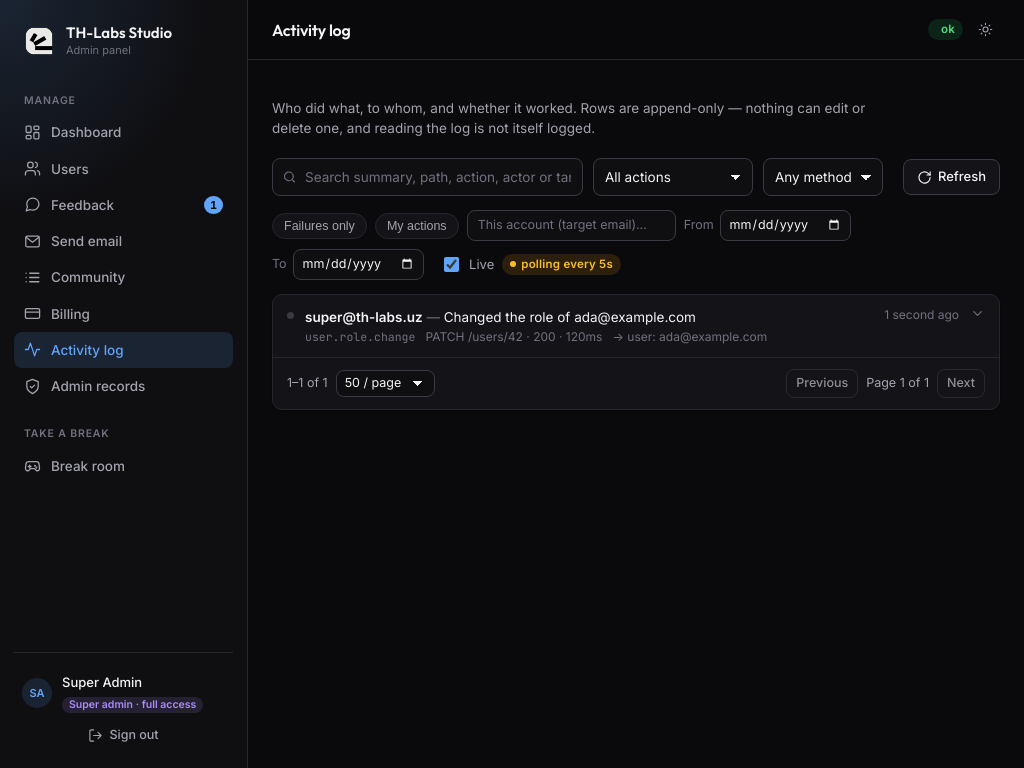
Test: activity log › renders rows as "who did what" and expands to the redacted meta
Expected: the text "super@th-labs.uz" is shown, [305,309,423,325]
Click the text "super@th-labs.uz — Changed the role of ada@example.com" at coordinates (364, 317), box [305,309,696,325]
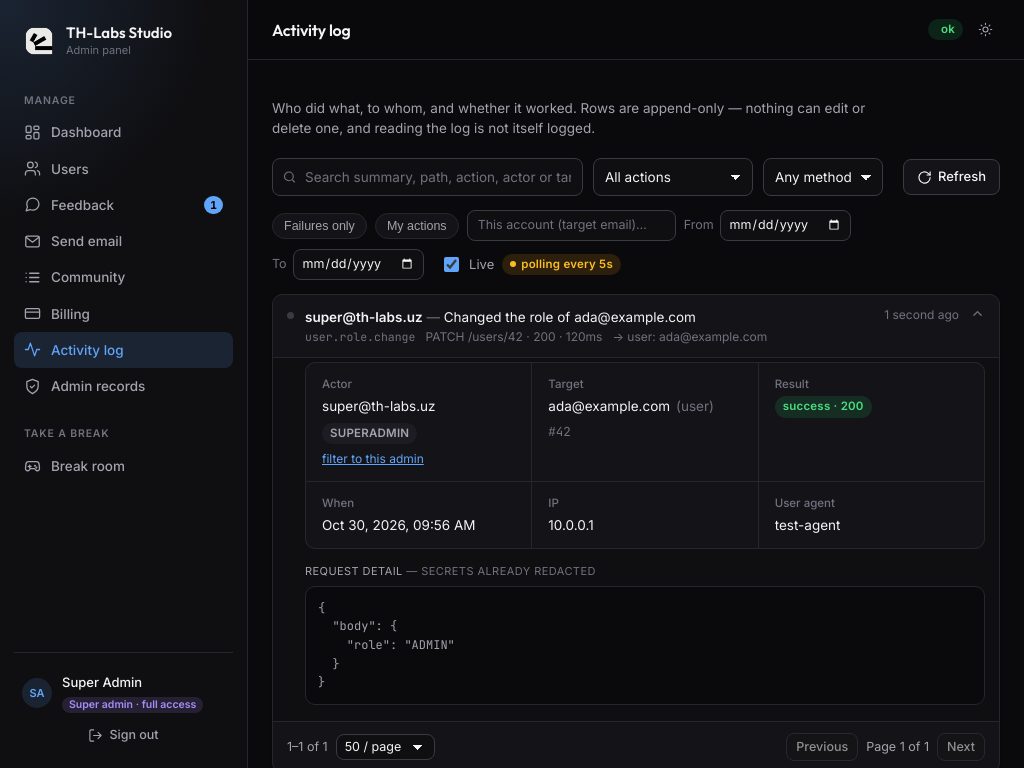
Result: the text "— secrets already redacted" is shown at [406,564,596,578]
Result: the text "{ \"body\": { \"role\": \"ADMIN\" } }" is shown at [305,586,985,705]
